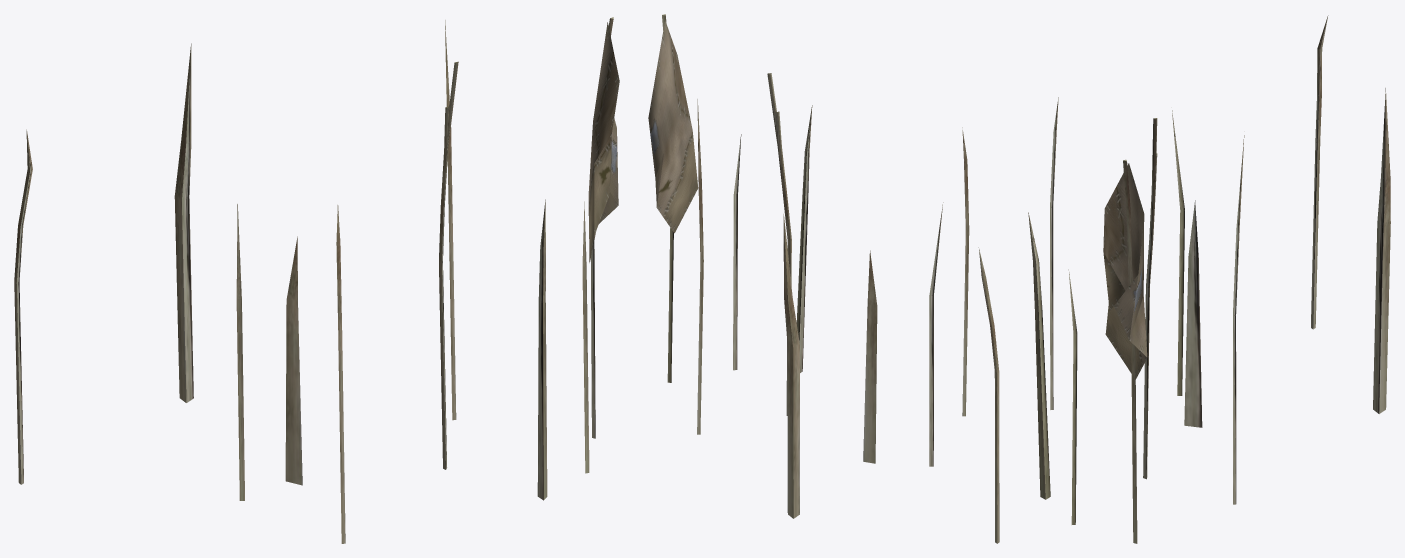
The model's file is pir_m_prp_tnt_group3_burned.fbx.
3 views of the same model, side by side, from view 1: azimuth 30°, elevation 25°; view 2: azimuth 150°, elevation 25°; view 3: azimuth 270°, elevation 25° (orthographic). The views are drawn at different scales.
Parts seen in each view (by area): view 1: canopy8, post22, post23, post13, post16, post24, post15, post10, post7, post19, post9; view 2: canopy8, post22, post23, post13, post16, post10, post7, post15, post19, post24, post9; view 3: canopy8, post22, post23, post13, post16, post9, post24, post15, post10, post7, post19.
Part boxes in pixels (<box>): canopy8: <box>588,22,619,262</box>; post22: <box>174,43,193,402</box>; post23: <box>285,236,302,485</box>; post13: <box>537,199,547,500</box>; post16: <box>14,129,32,484</box>; post24: <box>439,106,449,469</box>; post15: <box>236,204,244,500</box>; post10: <box>445,20,456,420</box>; post7: <box>336,205,345,543</box>; post19: <box>582,201,589,473</box>; post9: <box>591,17,613,438</box>; canopy8: <box>648,20,698,233</box>; post22: <box>783,214,799,518</box>; post23: <box>863,250,877,463</box>; post13: <box>796,105,812,372</box>; post16: <box>978,247,999,543</box>; post10: <box>697,99,703,434</box>; post7: <box>962,127,969,416</box>; post15: <box>929,202,943,466</box>; post19: <box>733,134,741,370</box>; post24: <box>775,111,791,415</box>; post9: <box>662,14,673,382</box>; canopy8: <box>1103,163,1147,379</box>; post22: <box>1373,88,1390,413</box>; post23: <box>1184,200,1202,427</box>; post13: <box>1028,212,1050,499</box>; post16: <box>1311,15,1328,329</box>; post9: <box>1123,159,1137,543</box>; post24: <box>1143,153,1157,479</box>; post15: <box>1172,110,1184,395</box>; post10: <box>1233,135,1244,504</box>; post7: <box>1050,97,1058,409</box>; post19: <box>1068,269,1077,524</box>.
Size of the model in its own units: 2619 by 2099 by 1768.
2 materials, 2 textured.
